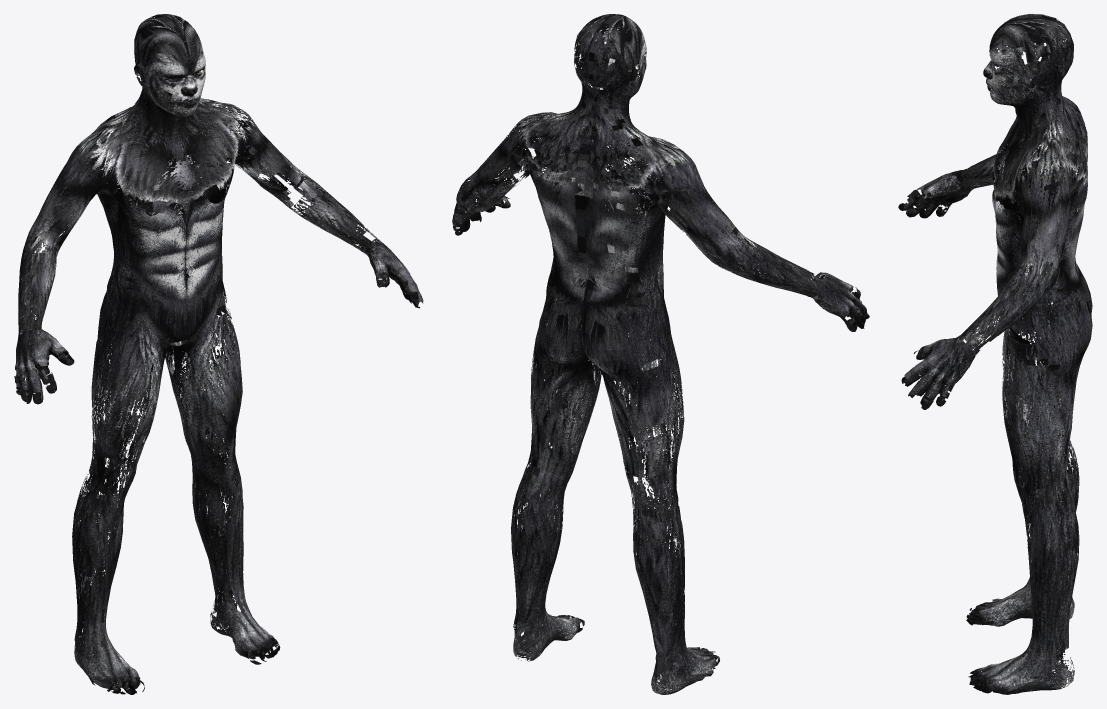
File: ewf_fur_werewolf.glb
3 views of the same model, side by side, from view 1: azimuth 30°, elevation 25°; view 2: azimuth 150°, elevation 25°; view 3: azimuth 270°, elevation 25° (orthographic).
Parts seen in each view (by area): view 1: ewf_fur; view 2: ewf_fur; view 3: ewf_fur.
Part boxes in pixels (x1=…): ewf_fur: x1=14, y1=14, x2=423, y2=694; ewf_fur: x1=452, y1=14, x2=869, y2=694; ewf_fur: x1=898, y1=14, x2=1092, y2=694.
Bounding box in the file's own units: 1.22 × 1.87 × 0.5164.
1 material, 1 textured.
